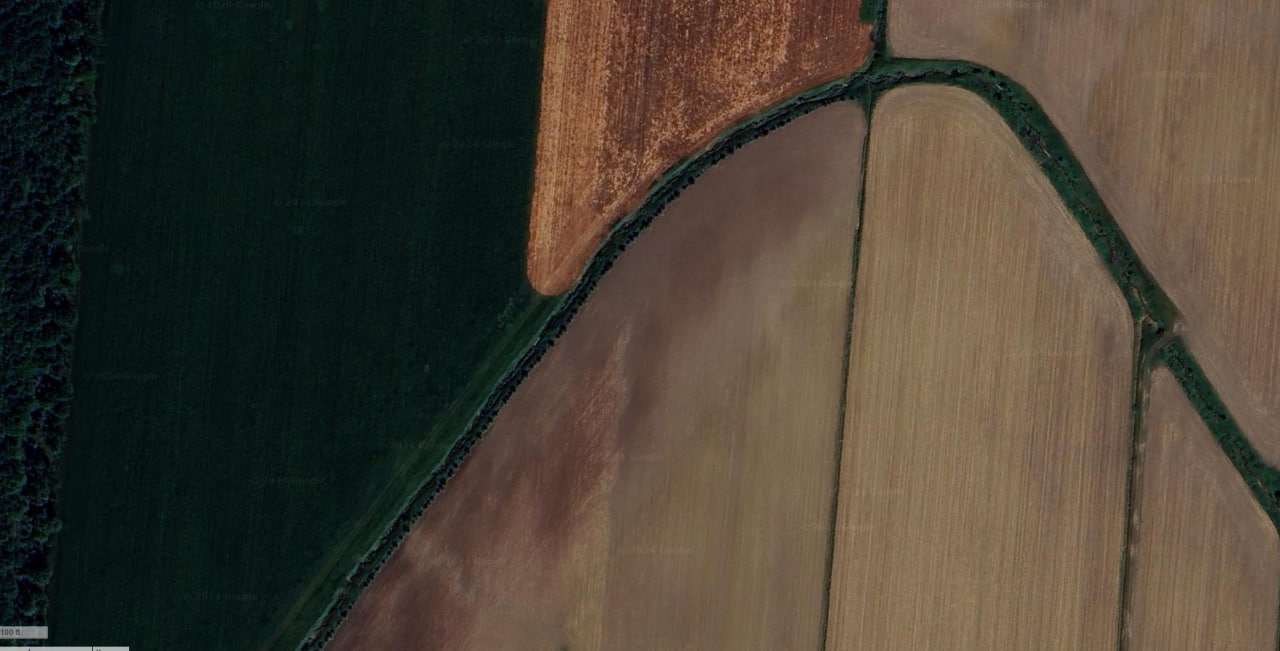Sown field: (49, 0, 559, 651)
field: (333, 103, 865, 651), (889, 0, 1280, 469), (827, 86, 1133, 651), (527, 0, 872, 295), (1123, 368, 1280, 651), (1265, 643, 1268, 651)
